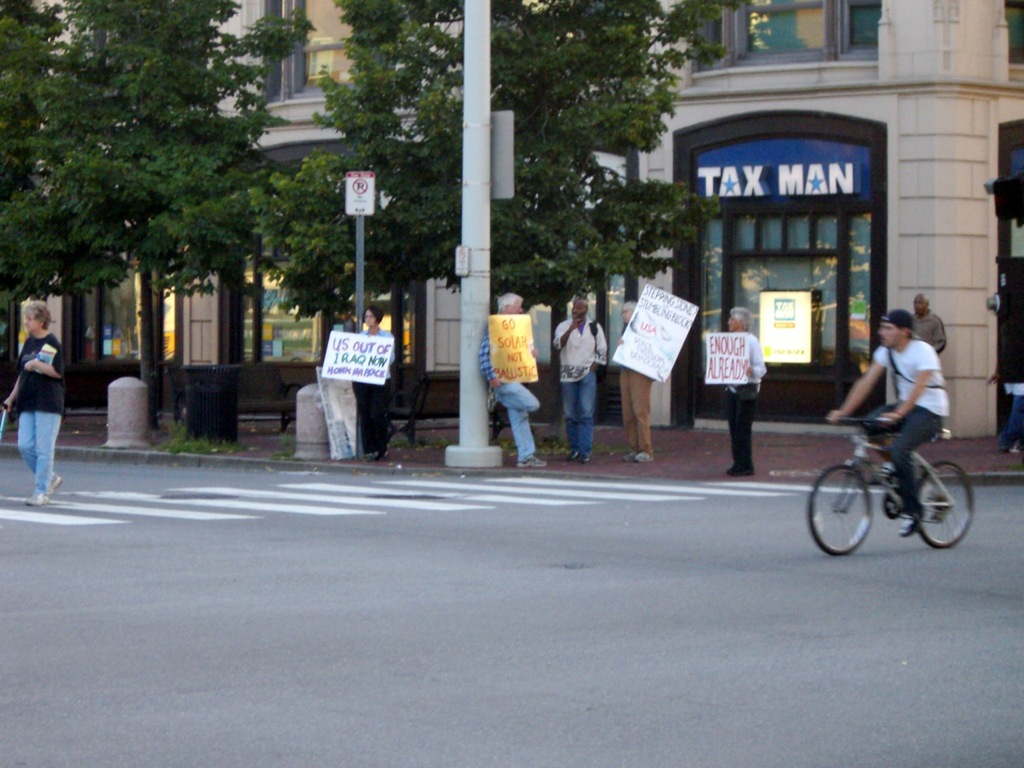Bike_toward: (811, 408, 978, 555)
